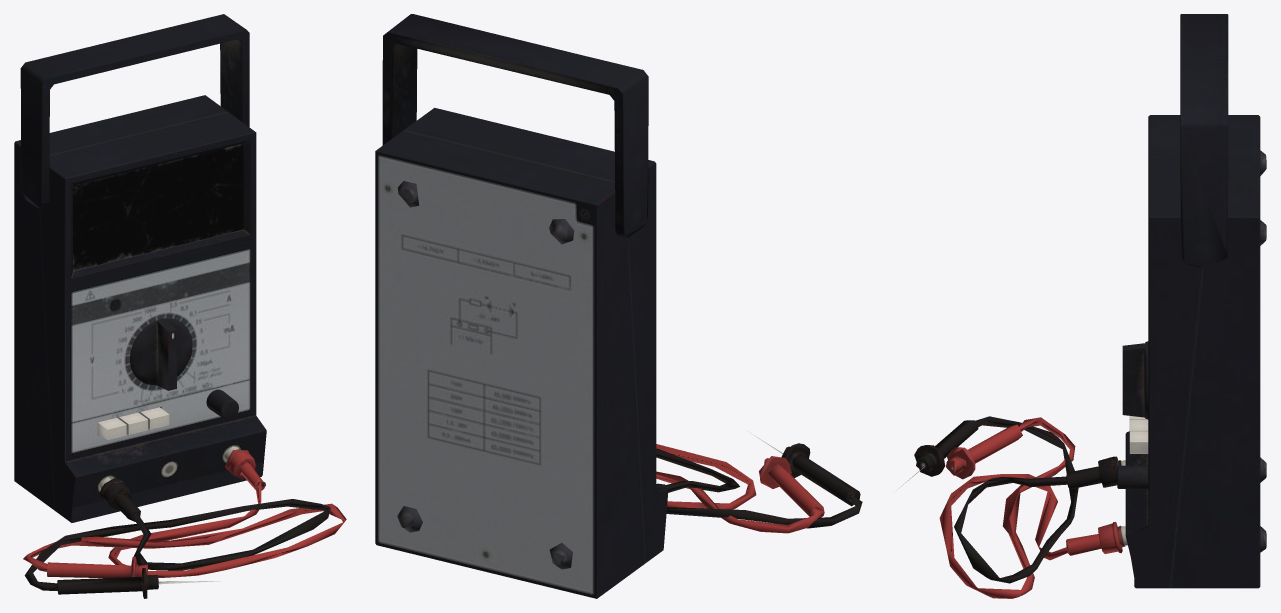
3 views of the same model, side by side, from view 1: azimuth 30°, elevation 25°; view 2: azimuth 150°, elevation 25°; view 3: azimuth 270°, elevation 25° (orthographic). The views are drawn at different scales.
Visible parts, largest first — view 1: retro_multimeter_LOD0, retro_multimeter_cables_LOD0, retro_multimeter_handle_LOD0, retro_multimeter_dial_LOD0, retro_multimeter_buttons_LOD0, retro_multimeter_knob_LOD0; view 2: retro_multimeter_LOD0, retro_multimeter_handle_LOD0, retro_multimeter_cables_LOD0; view 3: retro_multimeter_LOD0, retro_multimeter_cables_LOD0, retro_multimeter_handle_LOD0, retro_multimeter_dial_LOD0, retro_multimeter_knob_LOD0, retro_multimeter_buttons_LOD0.
Boxes of the visible parts, x1,y1,x2,y2 form: retro_multimeter_LOD0: (14, 95, 266, 522); retro_multimeter_cables_LOD0: (23, 446, 346, 598); retro_multimeter_handle_LOD0: (20, 14, 249, 207); retro_multimeter_dial_LOD0: (130, 318, 192, 390); retro_multimeter_buttons_LOD0: (98, 407, 169, 440); retro_multimeter_knob_LOD0: (206, 389, 238, 419); retro_multimeter_LOD0: (375, 107, 668, 598); retro_multimeter_handle_LOD0: (382, 14, 648, 238); retro_multimeter_cables_LOD0: (656, 431, 862, 533); retro_multimeter_LOD0: (1125, 115, 1266, 588); retro_multimeter_cables_LOD0: (896, 416, 1127, 598); retro_multimeter_handle_LOD0: (1180, 14, 1228, 267); retro_multimeter_dial_LOD0: (1122, 341, 1148, 419); retro_multimeter_knob_LOD0: (1117, 465, 1148, 489); retro_multimeter_buttons_LOD0: (1129, 416, 1148, 453).
Size of the model in its own units: 0.2148 by 0.2784 by 0.2012.
2 materials, 2 textured.
